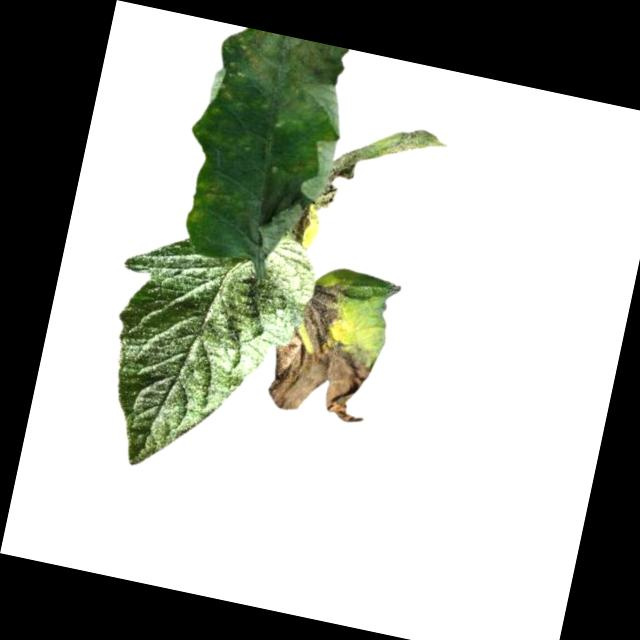Late_blight: (258, 269, 391, 428), (214, 24, 348, 133), (284, 135, 366, 255), (376, 121, 451, 168)
healthy: (84, 208, 324, 493)
